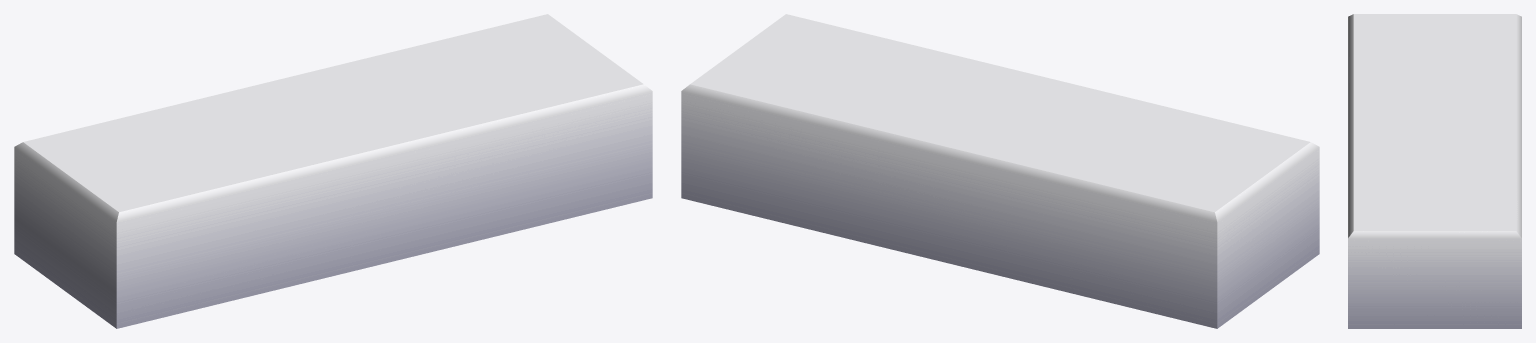
File: brick-kit--none-hq-brick-2x6.glb
The picture shows the model from 3 angles, left to right: view 1: azimuth 30°, elevation 25°; view 2: azimuth 150°, elevation 25°; view 3: azimuth 270°, elevation 25°; orthographic projection. The views are drawn at different scales.
Visible parts, largest first — view 1: none-hq-brick-2x6; view 2: none-hq-brick-2x6; view 3: none-hq-brick-2x6.
Boxes of the visible parts, x1=… form: none-hq-brick-2x6: x1=14, y1=14, x2=652, y2=328; none-hq-brick-2x6: x1=681, y1=14, x2=1319, y2=328; none-hq-brick-2x6: x1=1348, y1=14, x2=1521, y2=328.
Bounding box in the file's own units: 0.477 × 0.096 × 0.158.
1 material, 1 textured.
